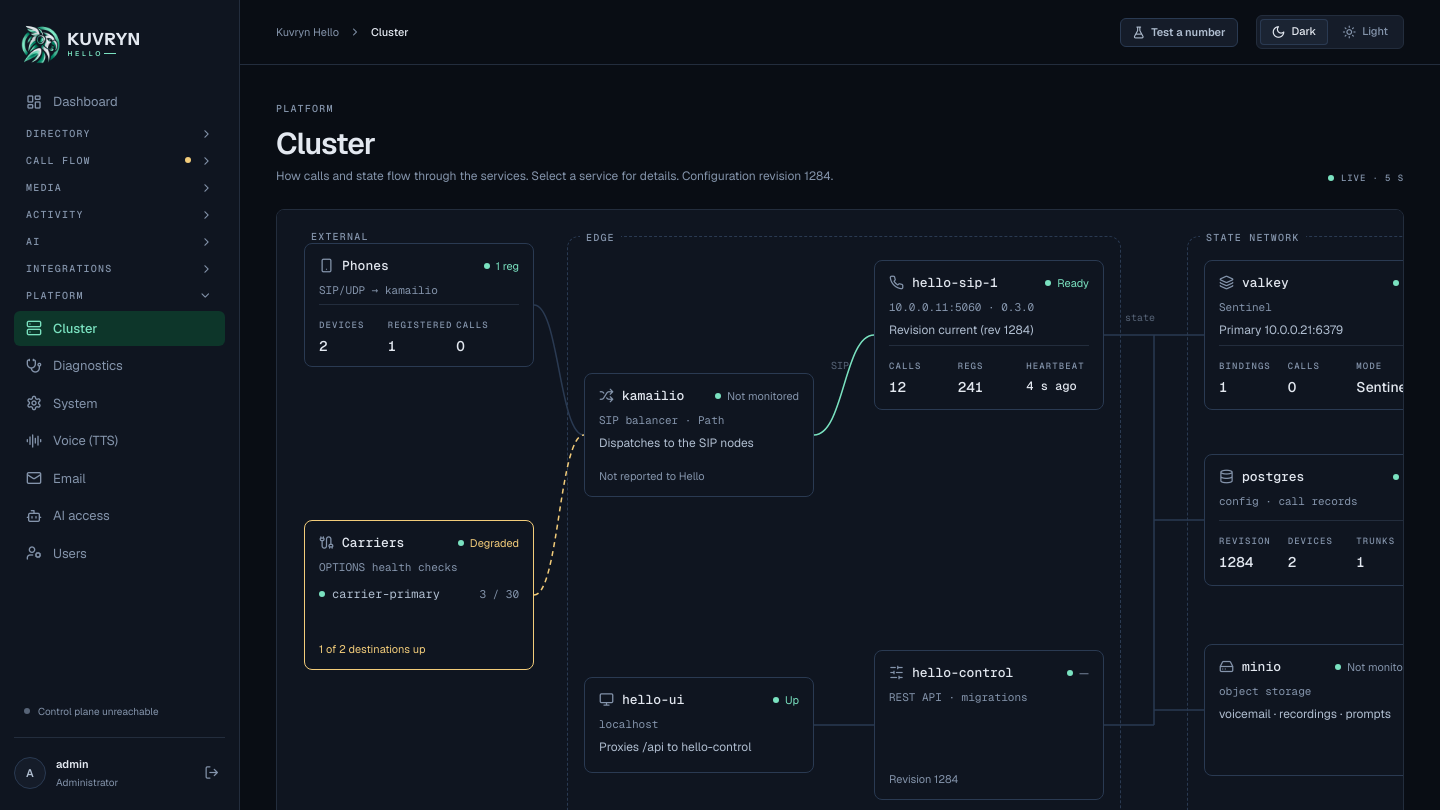
Test: Cluster › shows live views around the cluster, and — for what it cannot read
Click the button with aria-label "Phones: 1 reg" at (419, 305), box top-left (304, 243), bottom-right (534, 367)
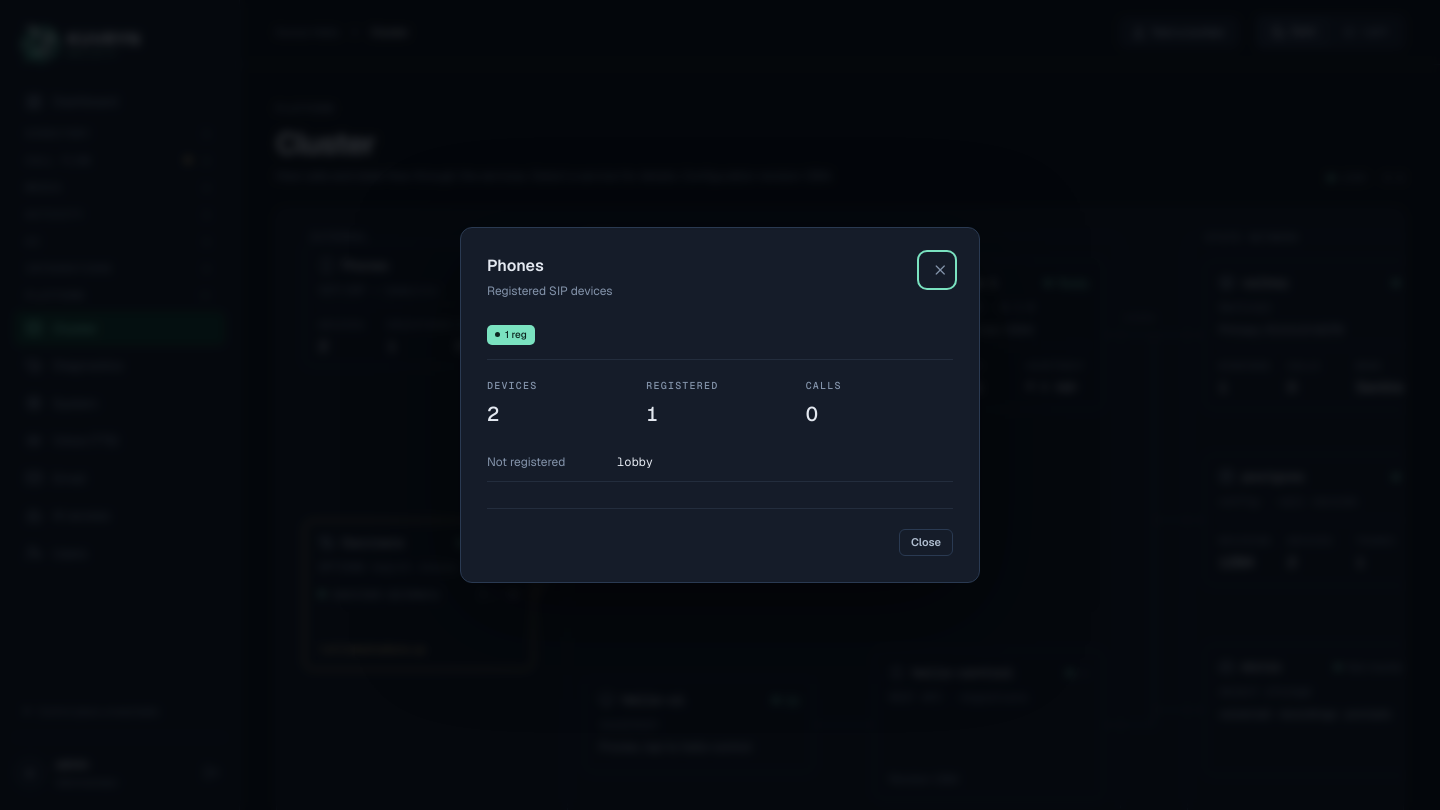
Result: the text "lobby" is shown at top-left (617, 443), bottom-right (953, 482)
